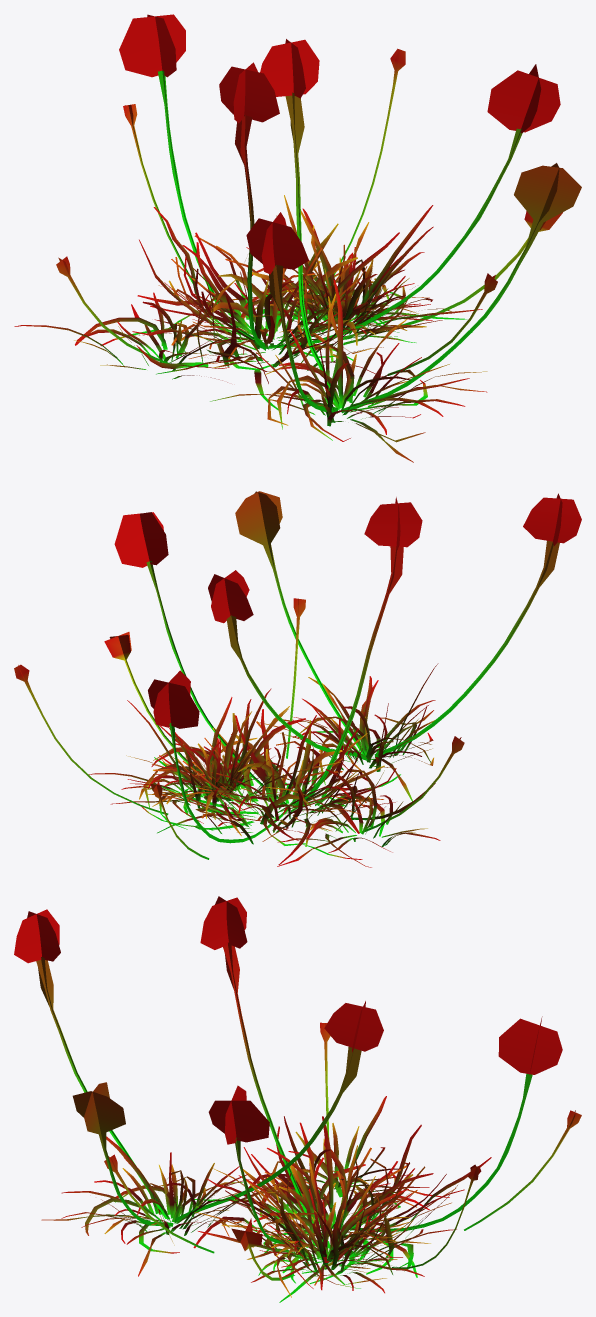
File: Var2_LOD1.fbx
3 views of the same model, one above another, from view 1: azimuth 30°, elevation 25°; view 2: azimuth 150°, elevation 25°; view 3: azimuth 270°, elevation 25° (orthographic). The views are drawn at different scales.
Visible parts, largest first — view 1: _h4ei_Var2_LOD1; view 2: _h4ei_Var2_LOD1; view 3: _h4ei_Var2_LOD1.
Part boxes in pixels (x1,y1,x2,y2): _h4ei_Var2_LOD1: (14, 14, 581, 462); _h4ei_Var2_LOD1: (14, 491, 581, 867); _h4ei_Var2_LOD1: (14, 896, 581, 1302).
Size of the model in its own units: 31.4 by 22.66 by 37.64.
